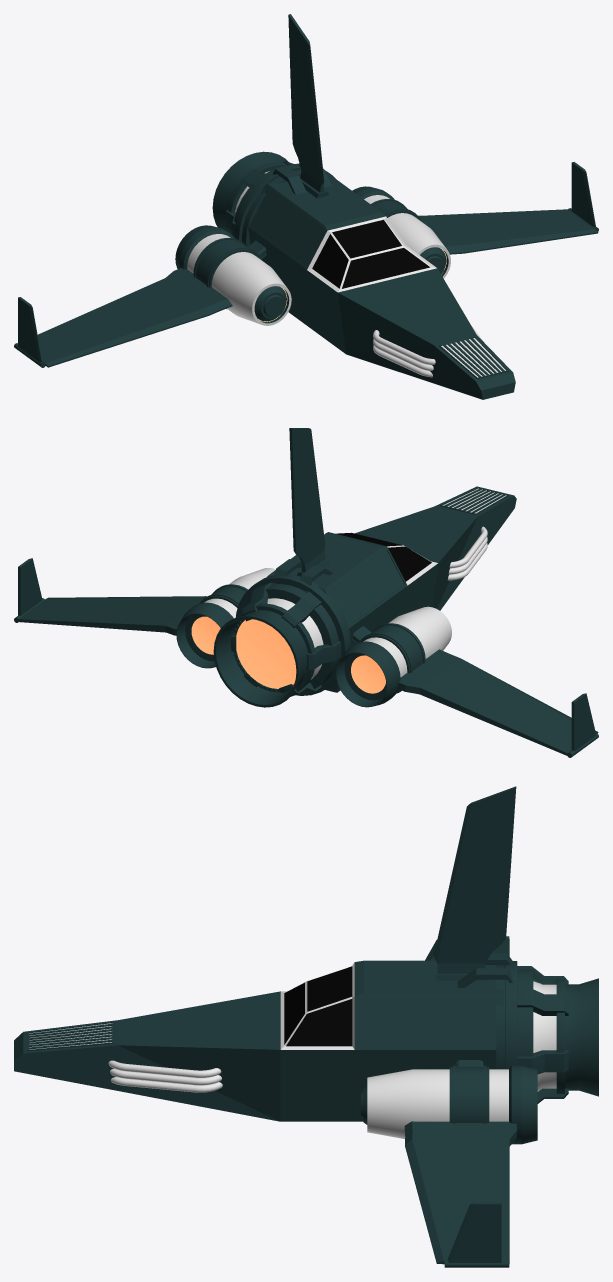
Rendered from spaceship1.glb.
3 renders of one model, top to bottom at view 1: azimuth 30°, elevation 25°; view 2: azimuth 150°, elevation 25°; view 3: azimuth 270°, elevation 25°, orthographic. The views are drawn at different scales.
Visible parts, largest first — view 1: Object_5, Object_3, Object_6, Object_2, Object_7; view 2: Object_5, Object_7, Object_6, Object_3, Object_4, Object_2; view 3: Object_5, Object_3, Object_7, Object_6, Object_2.
Part boxes in pixels (x1,y1,x2,y2): Object_5: [14, 14, 598, 399]; Object_3: [187, 171, 505, 377]; Object_6: [175, 186, 448, 323]; Object_2: [312, 219, 429, 288]; Object_7: [212, 151, 335, 246]; Object_5: [14, 428, 598, 757]; Object_7: [213, 574, 350, 707]; Object_6: [176, 584, 425, 707]; Object_3: [204, 488, 506, 679]; Object_4: [191, 616, 385, 693]; Object_2: [336, 532, 431, 581]; Object_5: [14, 786, 568, 1267]; Object_3: [29, 962, 556, 1138]; Object_7: [496, 961, 598, 1096]; Object_6: [361, 979, 537, 1144]; Object_2: [284, 966, 352, 1046].
Size of the model in its own units: 6.91 by 3.14 by 5.21.
